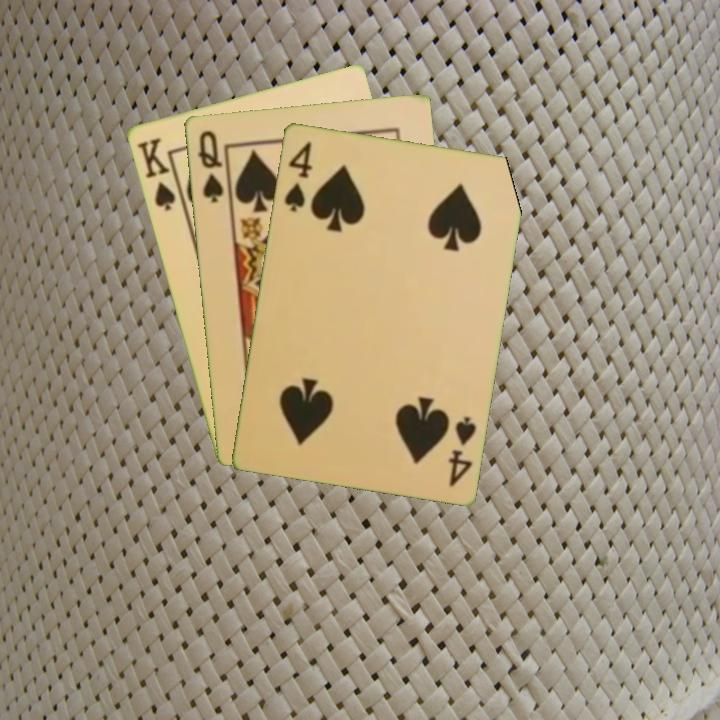4s: (280, 137, 315, 215), (444, 412, 478, 490)
Ks: (132, 134, 184, 214)
Qs: (193, 127, 226, 206)
